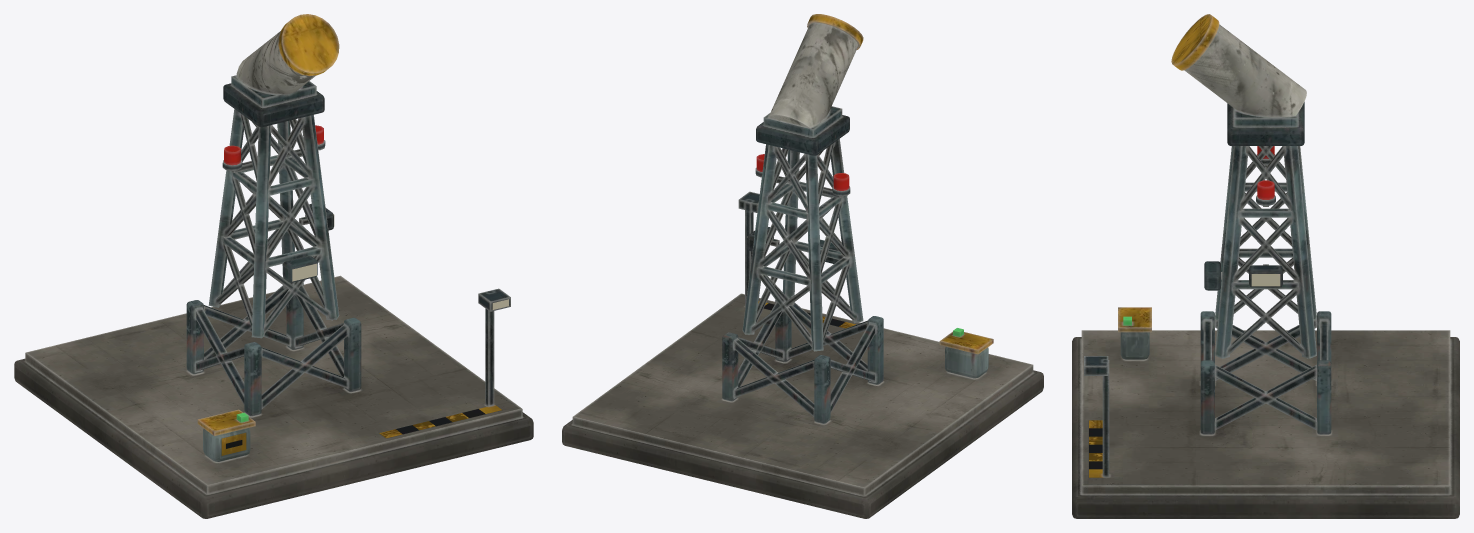
File: telescope_module.glb
The picture shows the model from 3 angles, left to right: view 1: azimuth 30°, elevation 25°; view 2: azimuth 150°, elevation 25°; view 3: azimuth 270°, elevation 25°; orthographic projection. The views are drawn at different scales.
Parts seen in each view (by area): view 1: te_telescope_module, move_scope; view 2: te_telescope_module, move_scope; view 3: te_telescope_module, move_scope.
Part boxes in pixels (bbox=[...]): te_telescope_module: bbox=[14, 83, 533, 518]; move_scope: bbox=[231, 14, 339, 107]; te_telescope_module: bbox=[562, 115, 1043, 518]; move_scope: bbox=[763, 14, 863, 137]; te_telescope_module: bbox=[1072, 102, 1459, 518]; move_scope: bbox=[1171, 14, 1306, 126].
Size of the model in its own units: 0.8 by 0.9584 by 0.8.
Materials: 1 (1 with a texture image).
